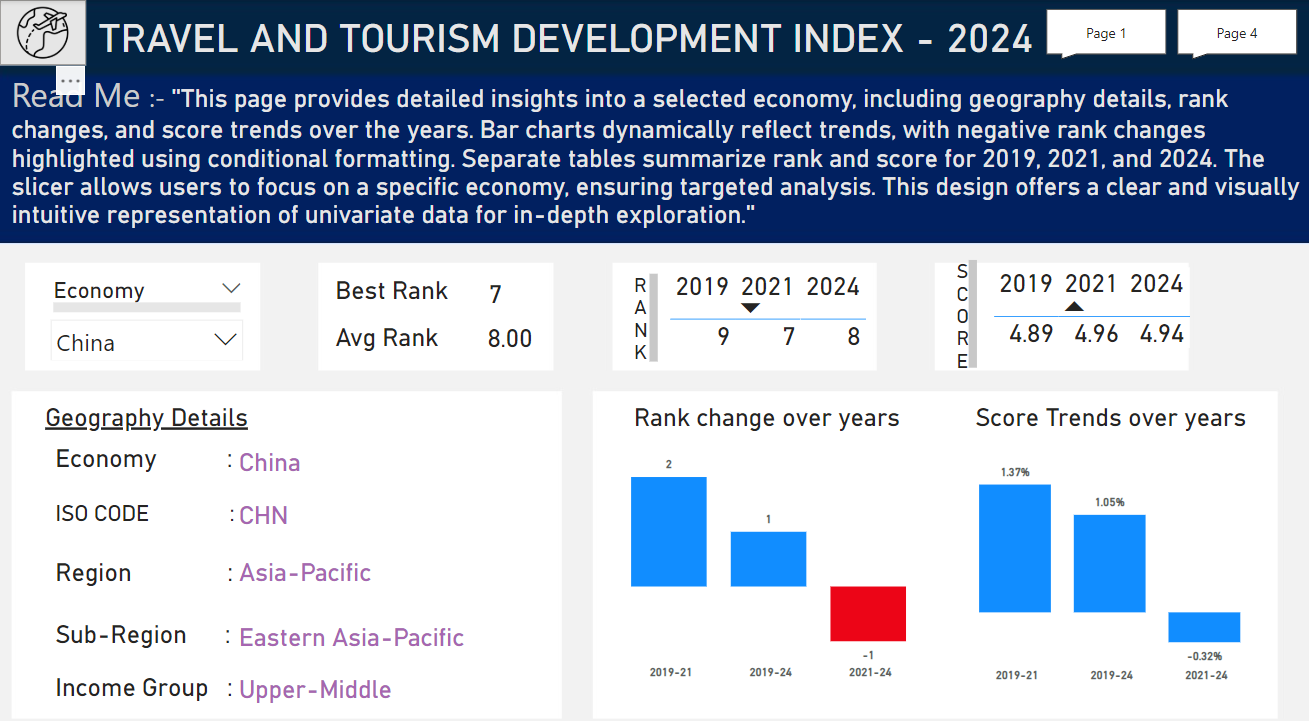

The page's visual inventory and layout, read from the dashboard file:
{"tool":"powerbi","page":{"name":"Page 2","canvas":[1265,720],"ordinal":1},"visuals":[{"type":"card","fields":{"Values":["Measures_.Best Rank"]},"box":[440.1,261.1,75,46.2],"z":0,"group":"g1"},{"type":"slicer","fields":{"Values":["Geography.Economy"]},"box":[39,262.6,206.3,85.1],"z":0},{"type":"card","fields":{"Values":["Measures_.Average Rank"]},"box":[440.1,305.8,103.9,41.8],"z":1000,"group":"g1"},{"type":"textbox","box":[47.9,423.6,213.5,265.5],"z":1000},{"type":"textbox","box":[318.4,307.3,141.4,50.5],"z":2000,"group":"g1"},{"type":"multiRowCard","fields":{"Values":["Measures_.Economy Name"]},"box":[225.1,427.1,242.4,45],"z":2000},{"type":"textbox","box":[318.4,262.7,139.9,47.6],"z":3000,"group":"g1"},{"type":"multiRowCard","fields":{"Values":["Measures_.Region"]},"box":[225.1,533.8,301.5,39.8],"z":3000},{"type":"multiRowCard","fields":{"Values":["Measures_.Sub-Region"]},"box":[225.1,596.1,305.9,38.7],"z":4000},{"type":"tableEx","fields":{"Values":["Measures_.2019 Rank","Measures_.2021 Rank","Measures_.2024 Rank"]},"box":[640.6,255.4,212.1,103.9],"z":5000},{"type":"columnChart","title":"Rank change over Years","fields":{"Category":["Rank Difference.Rank Year"],"Y":["Sum(Rank Difference.Value)"]},"box":[565.9,429.7,356.4,233.7],"z":6000},{"type":"columnChart","title":"Score Trends over years","fields":{"Category":["Score Difference.Score year"],"Y":["Sum(Score Difference.Value)"]},"box":[903.2,434.3,339,232.3],"z":7000},{"type":"tableEx","fields":{"Values":["Measures_.2019 Score","Measures_.2021 Score","Measures_.2024 Score"]},"box":[953.7,253.9,202,103.9],"z":8000},{"type":"multiRowCard","fields":{"Values":["Measures_.Inocme Group Name"]},"box":[225.1,646.4,217.9,38.7],"z":9000},{"type":"textbox","box":[936.4,383.8,287.1,43.3],"z":10000},{"type":"textbox","box":[607.4,383.8,279.9,43.3],"z":11000},{"type":"group","id":"g1","title":"Group 2","box":[318.4,261.1,225.6,96.7],"z":12000},{"type":"textbox","box":[39,383.8,279.9,41.8],"z":13000},{"type":"textbox","box":[607.4,259.7,33.2,95.2],"z":14000},{"type":"textbox","box":[918.1,246.1,30.2,115.8],"z":15000},{"type":"multiRowCard","fields":{"Values":["Measures_.ISO Code"]},"box":[225.1,479,150,37.5],"z":16000},{"type":"pageNavigator","box":[1009.8,8.4,242.5,49.5],"z":17000},{"type":"textbox","box":[81.5,9.8,927.7,64.7],"z":18000},{"type":"textbox","box":[5.5,63.9,1259.5,161.7],"z":19000},{"type":"image","box":[0,0,82.9,63.2],"z":19001}]}

Visuals, with their boxes on the page's 1265x720 design canvas (x1, y1, x2, y2). These are canvas units, not pixel positions in the 1309x721 screenshot, which may show the page scaled, cropped or inside an application window:
card - Measures_.Best Rank: 440,261,515,307
slicer - Geography.Economy: 39,263,245,348
card - Measures_.Average Rank: 440,306,544,348
textbox: 48,424,261,689
textbox: 318,307,460,358
multiRowCard - Measures_.Economy Name: 225,427,468,472
textbox: 318,263,458,310
multiRowCard - Measures_.Region: 225,534,527,574
multiRowCard - Measures_.Sub-Region: 225,596,531,635
tableEx - Measures_.2019 Rank x Measures_.2021 Rank: 641,255,853,359
"Rank change over Years" columnChart: 566,430,922,663
"Score Trends over years" columnChart: 903,434,1242,667
tableEx - Measures_.2019 Score x Measures_.2021 Score: 954,254,1156,358
multiRowCard - Measures_.Inocme Group Name: 225,646,443,685
textbox: 936,384,1224,427
textbox: 607,384,887,427
"Group 2" group: 318,261,544,358
textbox: 39,384,319,426
textbox: 607,260,641,355
textbox: 918,246,948,362
multiRowCard - Measures_.ISO Code: 225,479,375,516
pageNavigator: 1010,8,1252,58
textbox: 82,10,1009,74
textbox: 6,64,1265,226
image: 0,0,83,63
